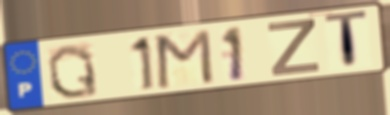1: (219, 24, 249, 82), (128, 34, 157, 92)
M: (154, 27, 216, 91)
Q: (45, 42, 101, 100)
T: (322, 8, 370, 72)
Z: (266, 17, 323, 78)
